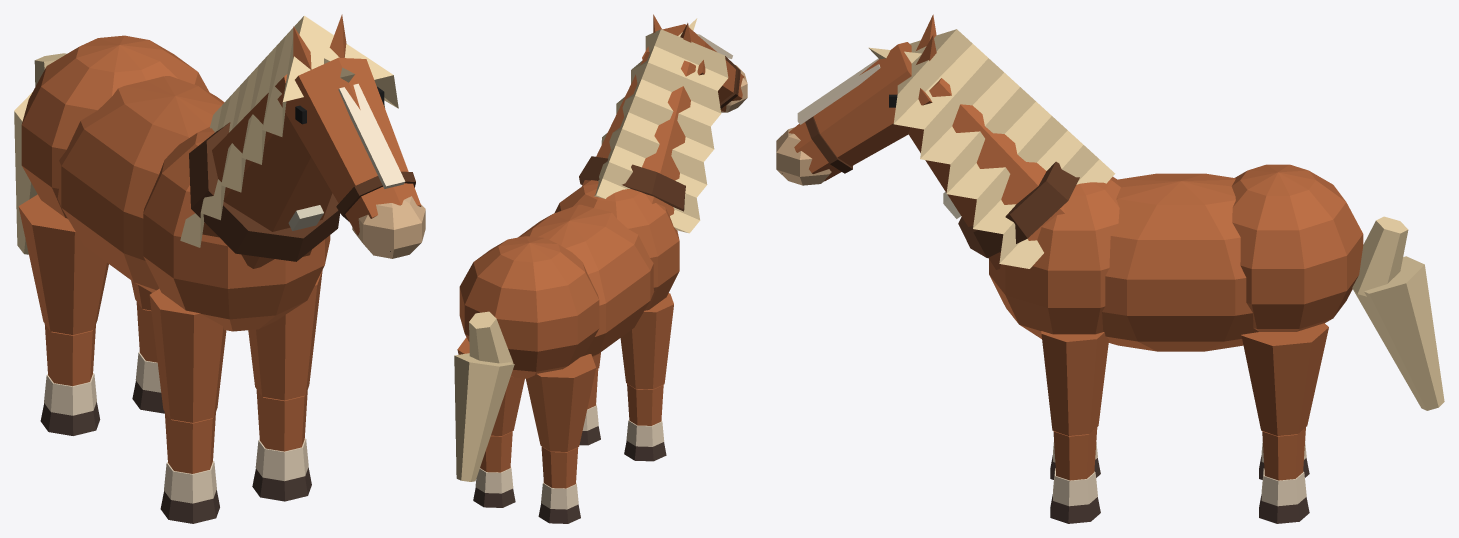
The model's file is horse.glb.
3 renders of one model, left to right at view 1: azimuth 30°, elevation 25°; view 2: azimuth 150°, elevation 25°; view 3: azimuth 270°, elevation 25°, orthographic. The views are drawn at different scales.
Visible parts, largest first — view 1: rumpf, brust, kruppe, kopf, maehne, hals, leg_bl_oben, leg_fl_oben, kummet, leg_fr_oben, maul, leg_fr_unten (+15 smaller); view 2: kruppe, maehne, rumpf, schweif_unten, brust, leg_bl_oben, leg_fl_oben, hals, kummet, schweif_oben, leg_bl_unten, leg_fl_unten (+9 smaller); view 3: rumpf, maehne, kruppe, brust, kopf, schweif_unten, leg_br_oben, leg_fr_oben, hals, kummet, schweif_oben, leg_br_unten (+7 smaller).
Part boxes in pixels (x1,y1,x2,y2): rumpf: [57, 76, 224, 292]; brust: [143, 127, 330, 331]; kruppe: [21, 35, 209, 219]; kopf: [277, 57, 421, 235]; maehne: [180, 15, 398, 247]; hals: [202, 74, 332, 268]; leg_bl_oben: [18, 194, 108, 334]; leg_fl_oben: [149, 288, 226, 422]; kummet: [189, 122, 340, 261]; leg_fr_oben: [248, 270, 322, 400]; maul: [352, 196, 425, 258]; leg_fr_unten: [256, 389, 307, 451]; kruppe: [459, 236, 599, 378]; maehne: [594, 29, 728, 233]; rumpf: [518, 204, 654, 357]; schweif_unten: [454, 353, 514, 481]; brust: [554, 180, 679, 310]; leg_bl_oben: [526, 354, 595, 451]; leg_fl_oben: [620, 293, 673, 389]; hals: [582, 52, 695, 215]; kummet: [579, 156, 685, 211]; schweif_oben: [469, 311, 513, 363]; leg_bl_unten: [541, 446, 578, 488]; leg_fl_unten: [627, 383, 663, 425]; rumpf: [1102, 173, 1258, 351]; maehne: [893, 29, 1115, 268]; kruppe: [1231, 164, 1363, 331]; brust: [989, 177, 1120, 338]; kopf: [788, 42, 932, 181]; schweif_unten: [1353, 256, 1444, 410]; leg_br_oben: [1241, 323, 1328, 435]; leg_fr_oben: [1041, 331, 1108, 435]; hals: [908, 78, 1064, 269]; kummet: [958, 161, 1079, 257]; schweif_oben: [1352, 216, 1408, 296]; leg_br_unten: [1262, 427, 1305, 480].
Size of the model in its own units: 0.7505 by 2.13 by 2.75.
